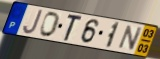1: (106, 21, 122, 50)
6: (79, 18, 100, 44)
J: (22, 9, 44, 35)
N: (116, 24, 144, 52)
O: (39, 11, 62, 38)
T: (62, 15, 84, 43)
